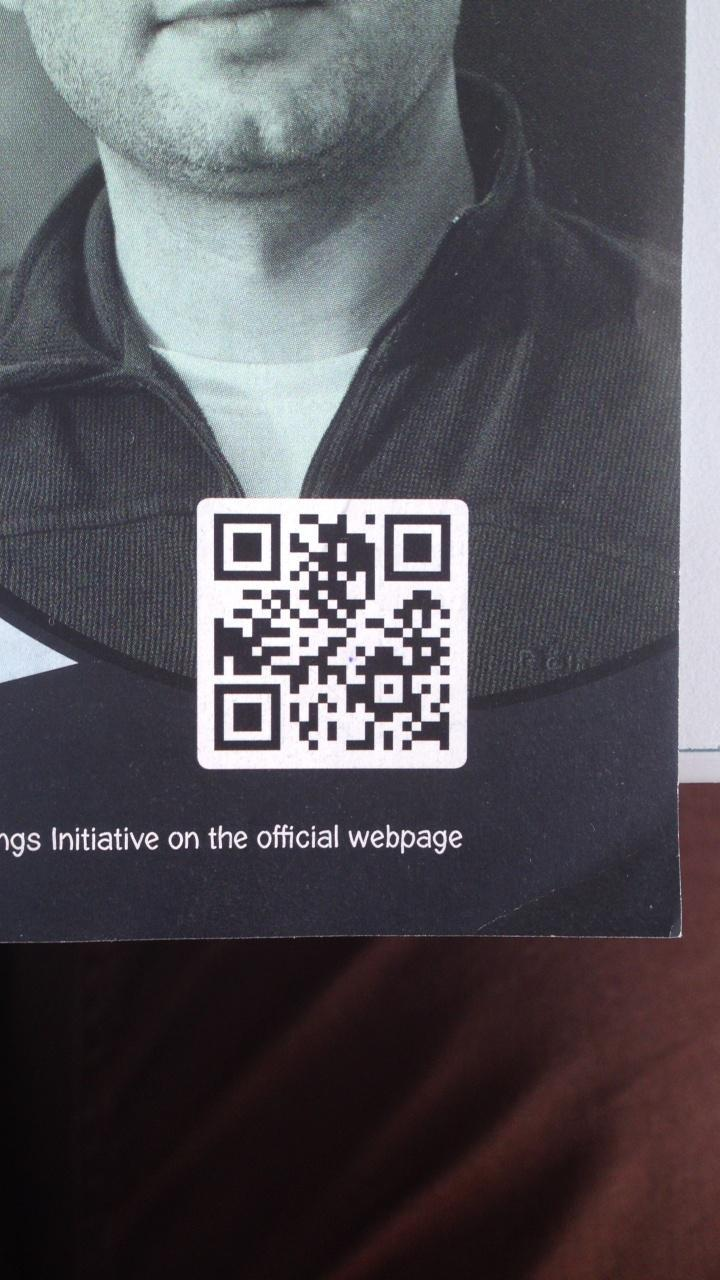Finder pattern: (205, 503, 286, 588), (378, 507, 455, 586), (210, 676, 286, 756)
